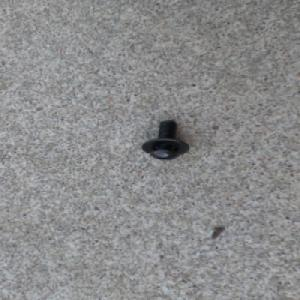BoltWasher: (141, 119, 191, 160)
